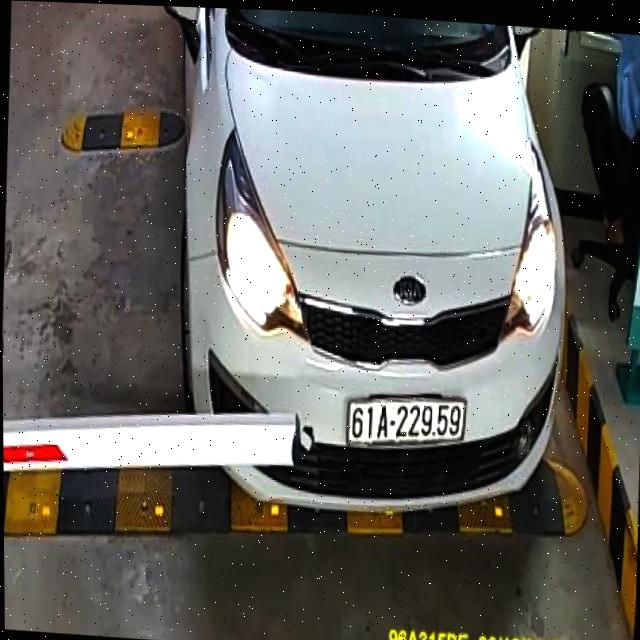car: (145, 5, 580, 530)
plate: (342, 389, 468, 455)
